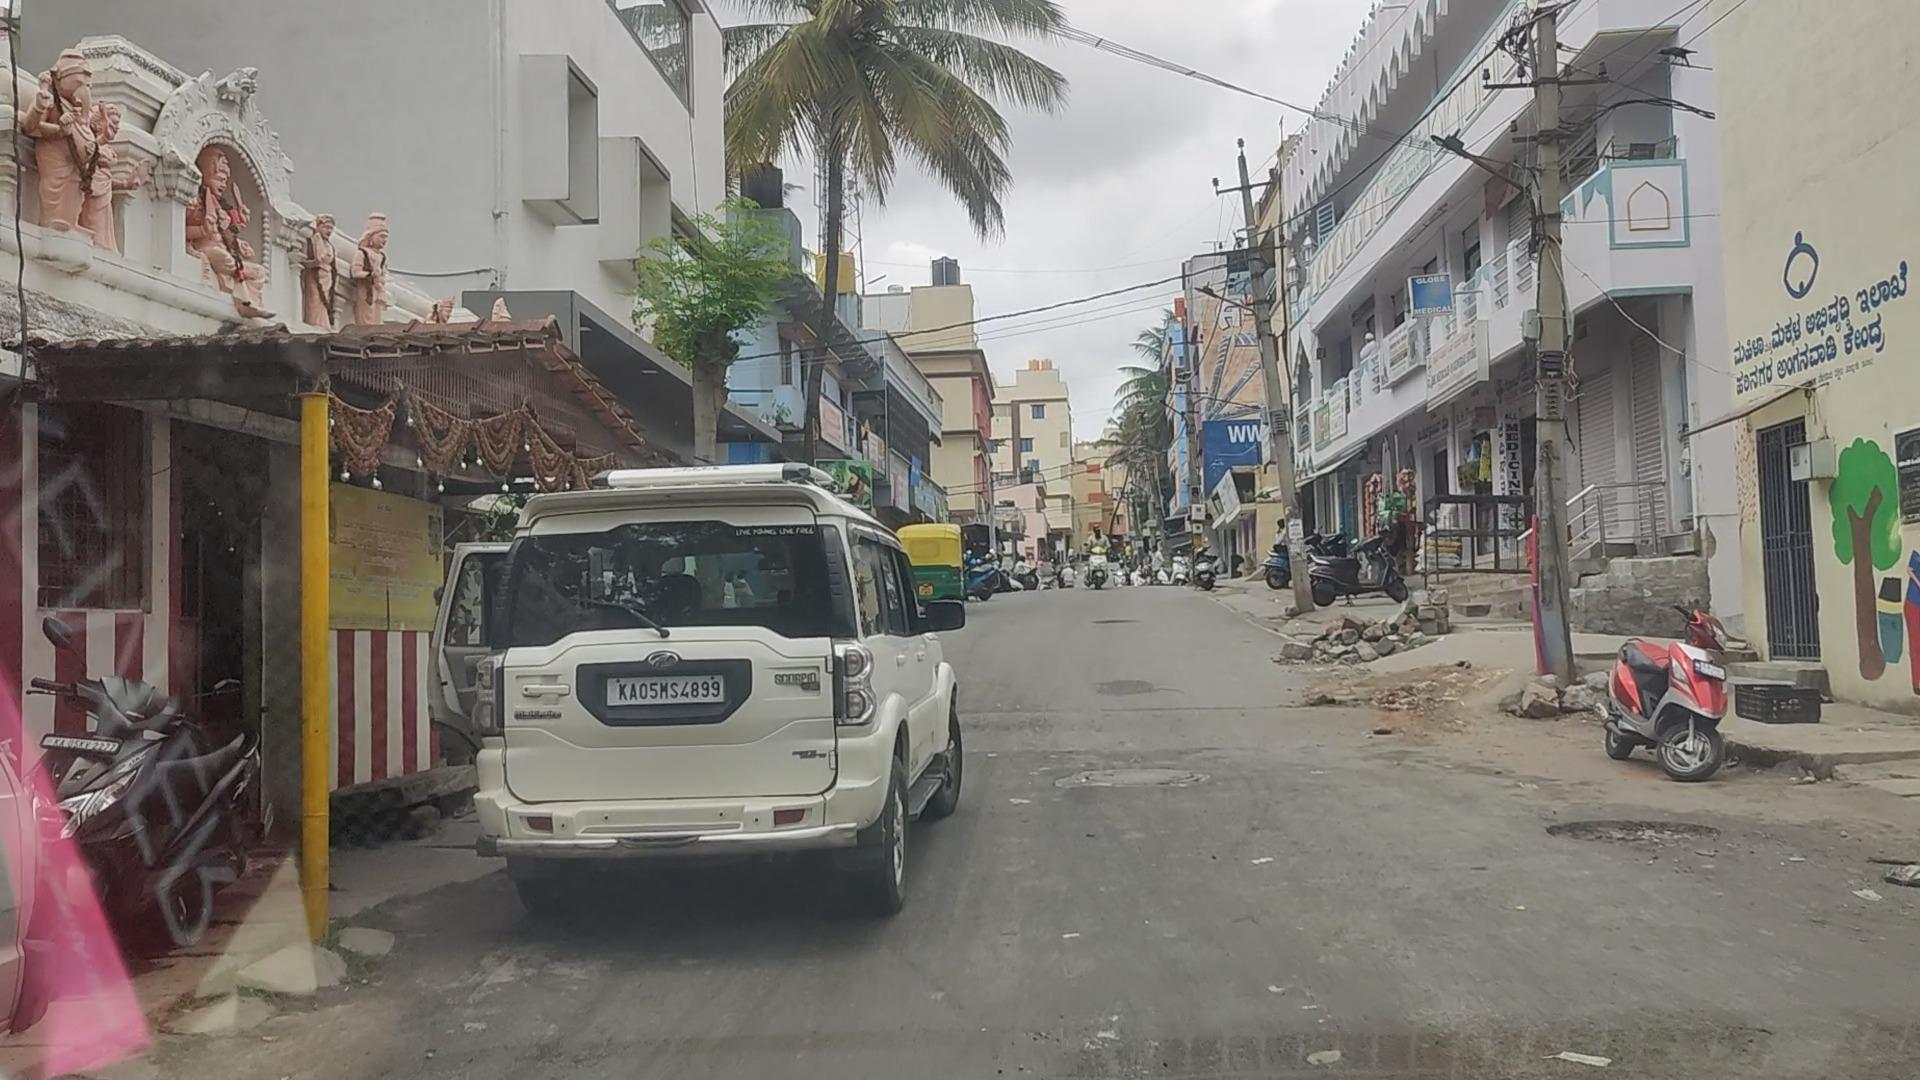RoadDamages: (1538, 808, 1753, 860), (1046, 754, 1220, 812)
